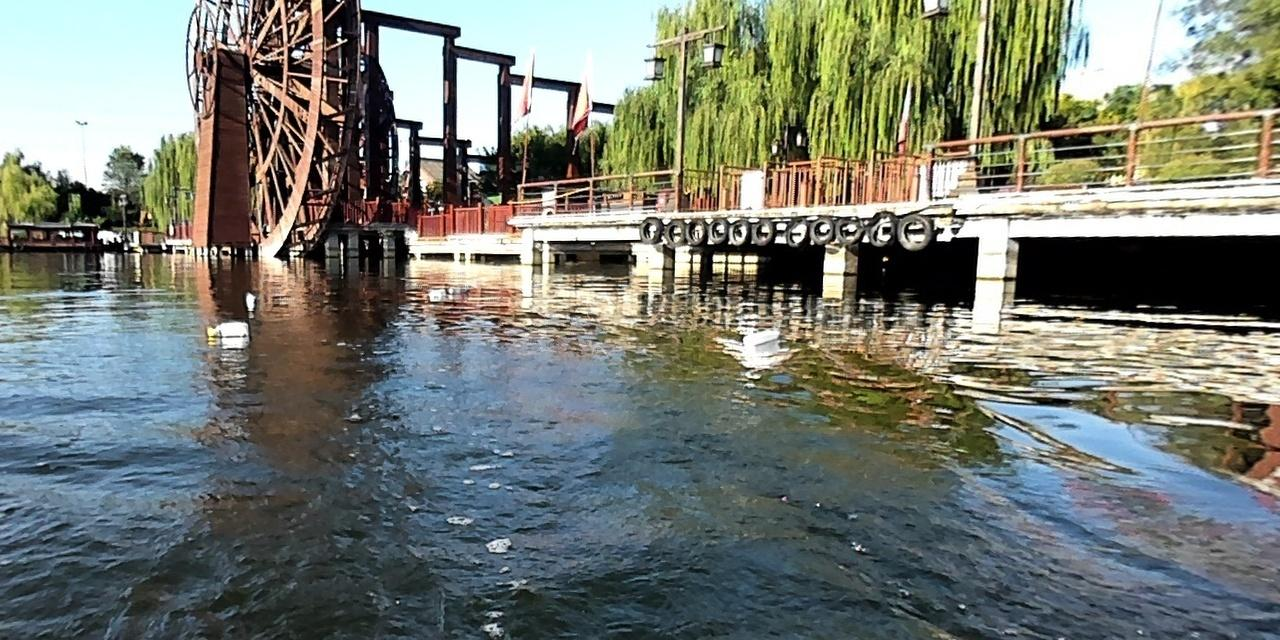bottle: (205, 319, 251, 336)
